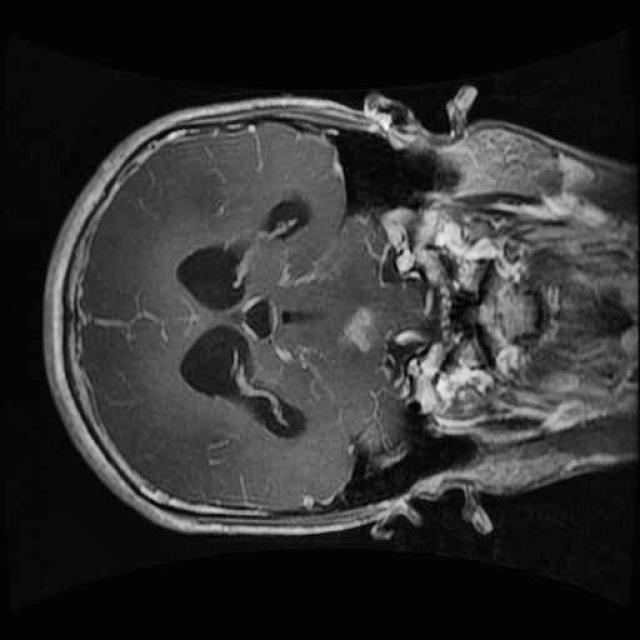Tumor: (340, 287, 408, 364)
